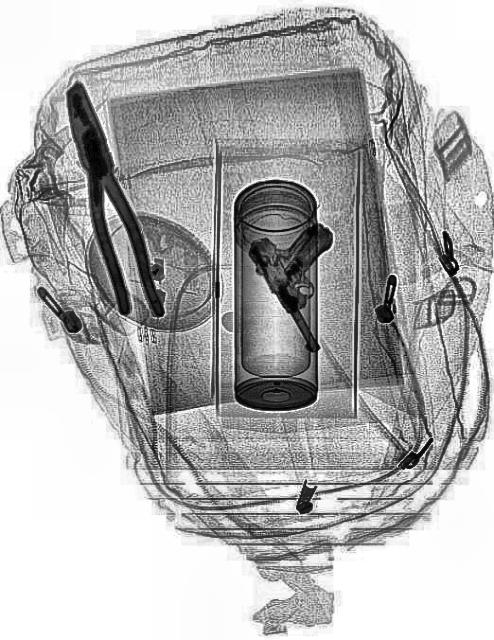Gun: (242, 192, 372, 358)
Pliers: (52, 74, 166, 330)
